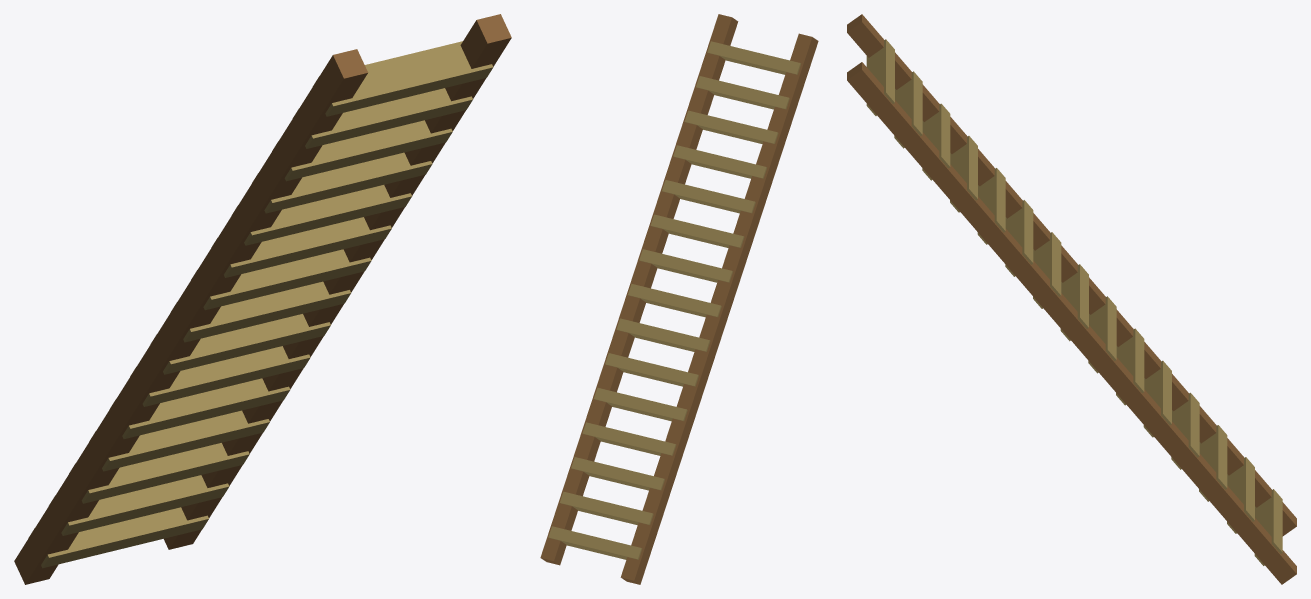
The model's file is ladder_6.4.glb.
3 views of the same model, side by side, from view 1: azimuth 30°, elevation 25°; view 2: azimuth 150°, elevation 25°; view 3: azimuth 270°, elevation 25° (orthographic). The views are drawn at different scales.
Parts seen in each view (by area): view 1: part_0, part_1, part_16, part_5, part_8, part_9, part_10, part_11, part_14, part_15, part_2, part_12 (+5 smaller); view 2: part_0, part_1, part_10, part_7, part_8, part_5, part_12, part_2, part_3, part_9, part_11, part_15 (+5 smaller); view 3: part_1, part_0, part_10, part_7, part_14, part_4, part_11, part_5, part_8, part_12, part_15, part_2 (+5 smaller).
Part boxes in pixels (x1,y1,x2,y2): part_0: (14,49,367,584); part_1: (164,14,511,549); part_16: (312,41,493,116); part_5: (89,410,269,471); part_8: (150,314,330,374); part_9: (171,281,350,342); part_10: (191,249,371,310); part_11: (211,217,391,277); part_14: (272,120,452,181); part_15: (292,88,472,148); part_2: (28,507,208,568); part_12: (231,185,412,245); part_0: (620,33,818,584); part_1: (540,14,738,565); part_10: (639,249,732,282); part_7: (605,353,698,386); part_8: (616,318,710,351); part_5: (582,422,676,455); part_12: (662,180,755,213); part_2: (548,526,642,559); part_3: (560,491,653,525); part_9: (628,283,721,317); part_11: (650,214,744,247); part_15: (696,76,789,109); part_1: (847,62,1296,584); part_0: (847,14,1296,536); part_10: (1033,232,1061,308); part_7: (1116,328,1144,405); part_14: (922,103,950,180); part_4: (1199,425,1227,501); part_11: (1005,200,1033,276); part_5: (1171,392,1199,469); part_8: (1088,296,1116,373); part_12: (977,168,1005,244); part_15: (894,71,922,148); part_2: (1254,489,1282,565).
Bounding box in the file's own units: 1.52 × 6.54 × 5.17.
